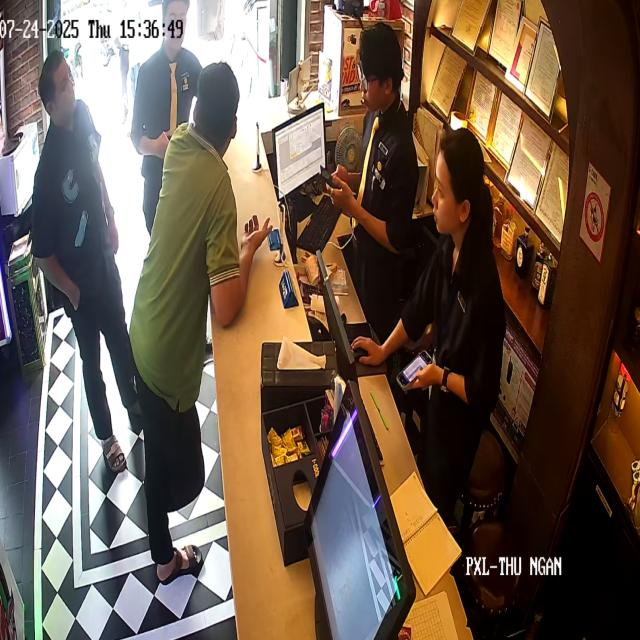khach: (183, 65, 264, 539), (32, 40, 122, 463)
nhan vien: (427, 127, 498, 469), (354, 30, 410, 299), (136, 3, 196, 170)
